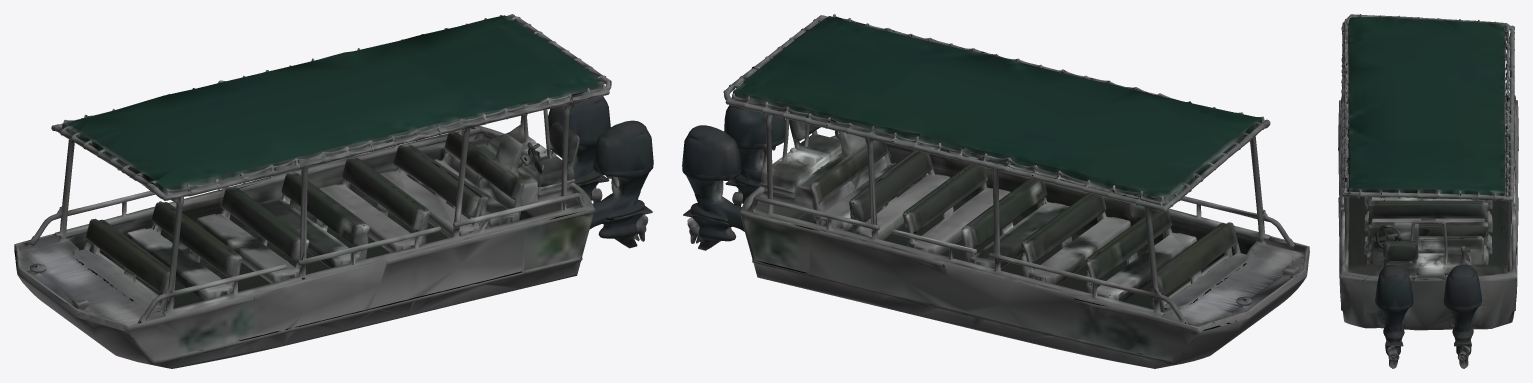
The model's file is river-boat-phone.glb.
The picture shows the model from 3 angles, left to right: view 1: azimuth 30°, elevation 25°; view 2: azimuth 150°, elevation 25°; view 3: azimuth 270°, elevation 25°; orthographic projection. The views are drawn at different scales.
Visible parts, largest first — view 1: Model; view 2: Model; view 3: Model.
Part boxes in pixels (box(x1,y1,x2,y2)): Model: box(14, 14, 653, 368); Model: box(682, 14, 1309, 368); Model: box(1338, 14, 1518, 368).
Bounding box in the file's own units: 1.9 × 0.6379 × 0.6504.
Materials: 1 (1 with a texture image).
